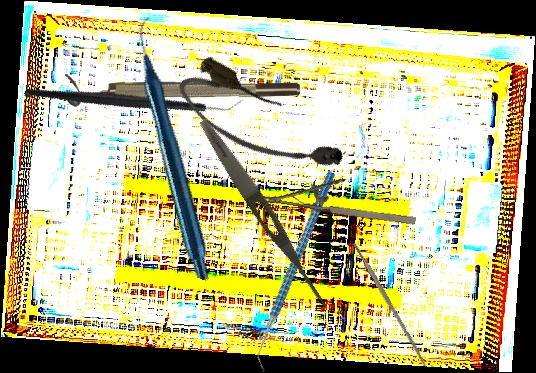Cannula: (169, 50, 353, 197)
Chopper: (201, 170, 393, 373), (23, 13, 245, 181)
Dressing Forceps: (194, 115, 336, 313)
Fixation Ring: (64, 74, 300, 111)
Handpiece: (60, 15, 291, 282)
Needle Holder: (258, 165, 421, 229)
Scalpel Handle: (351, 240, 429, 368)
